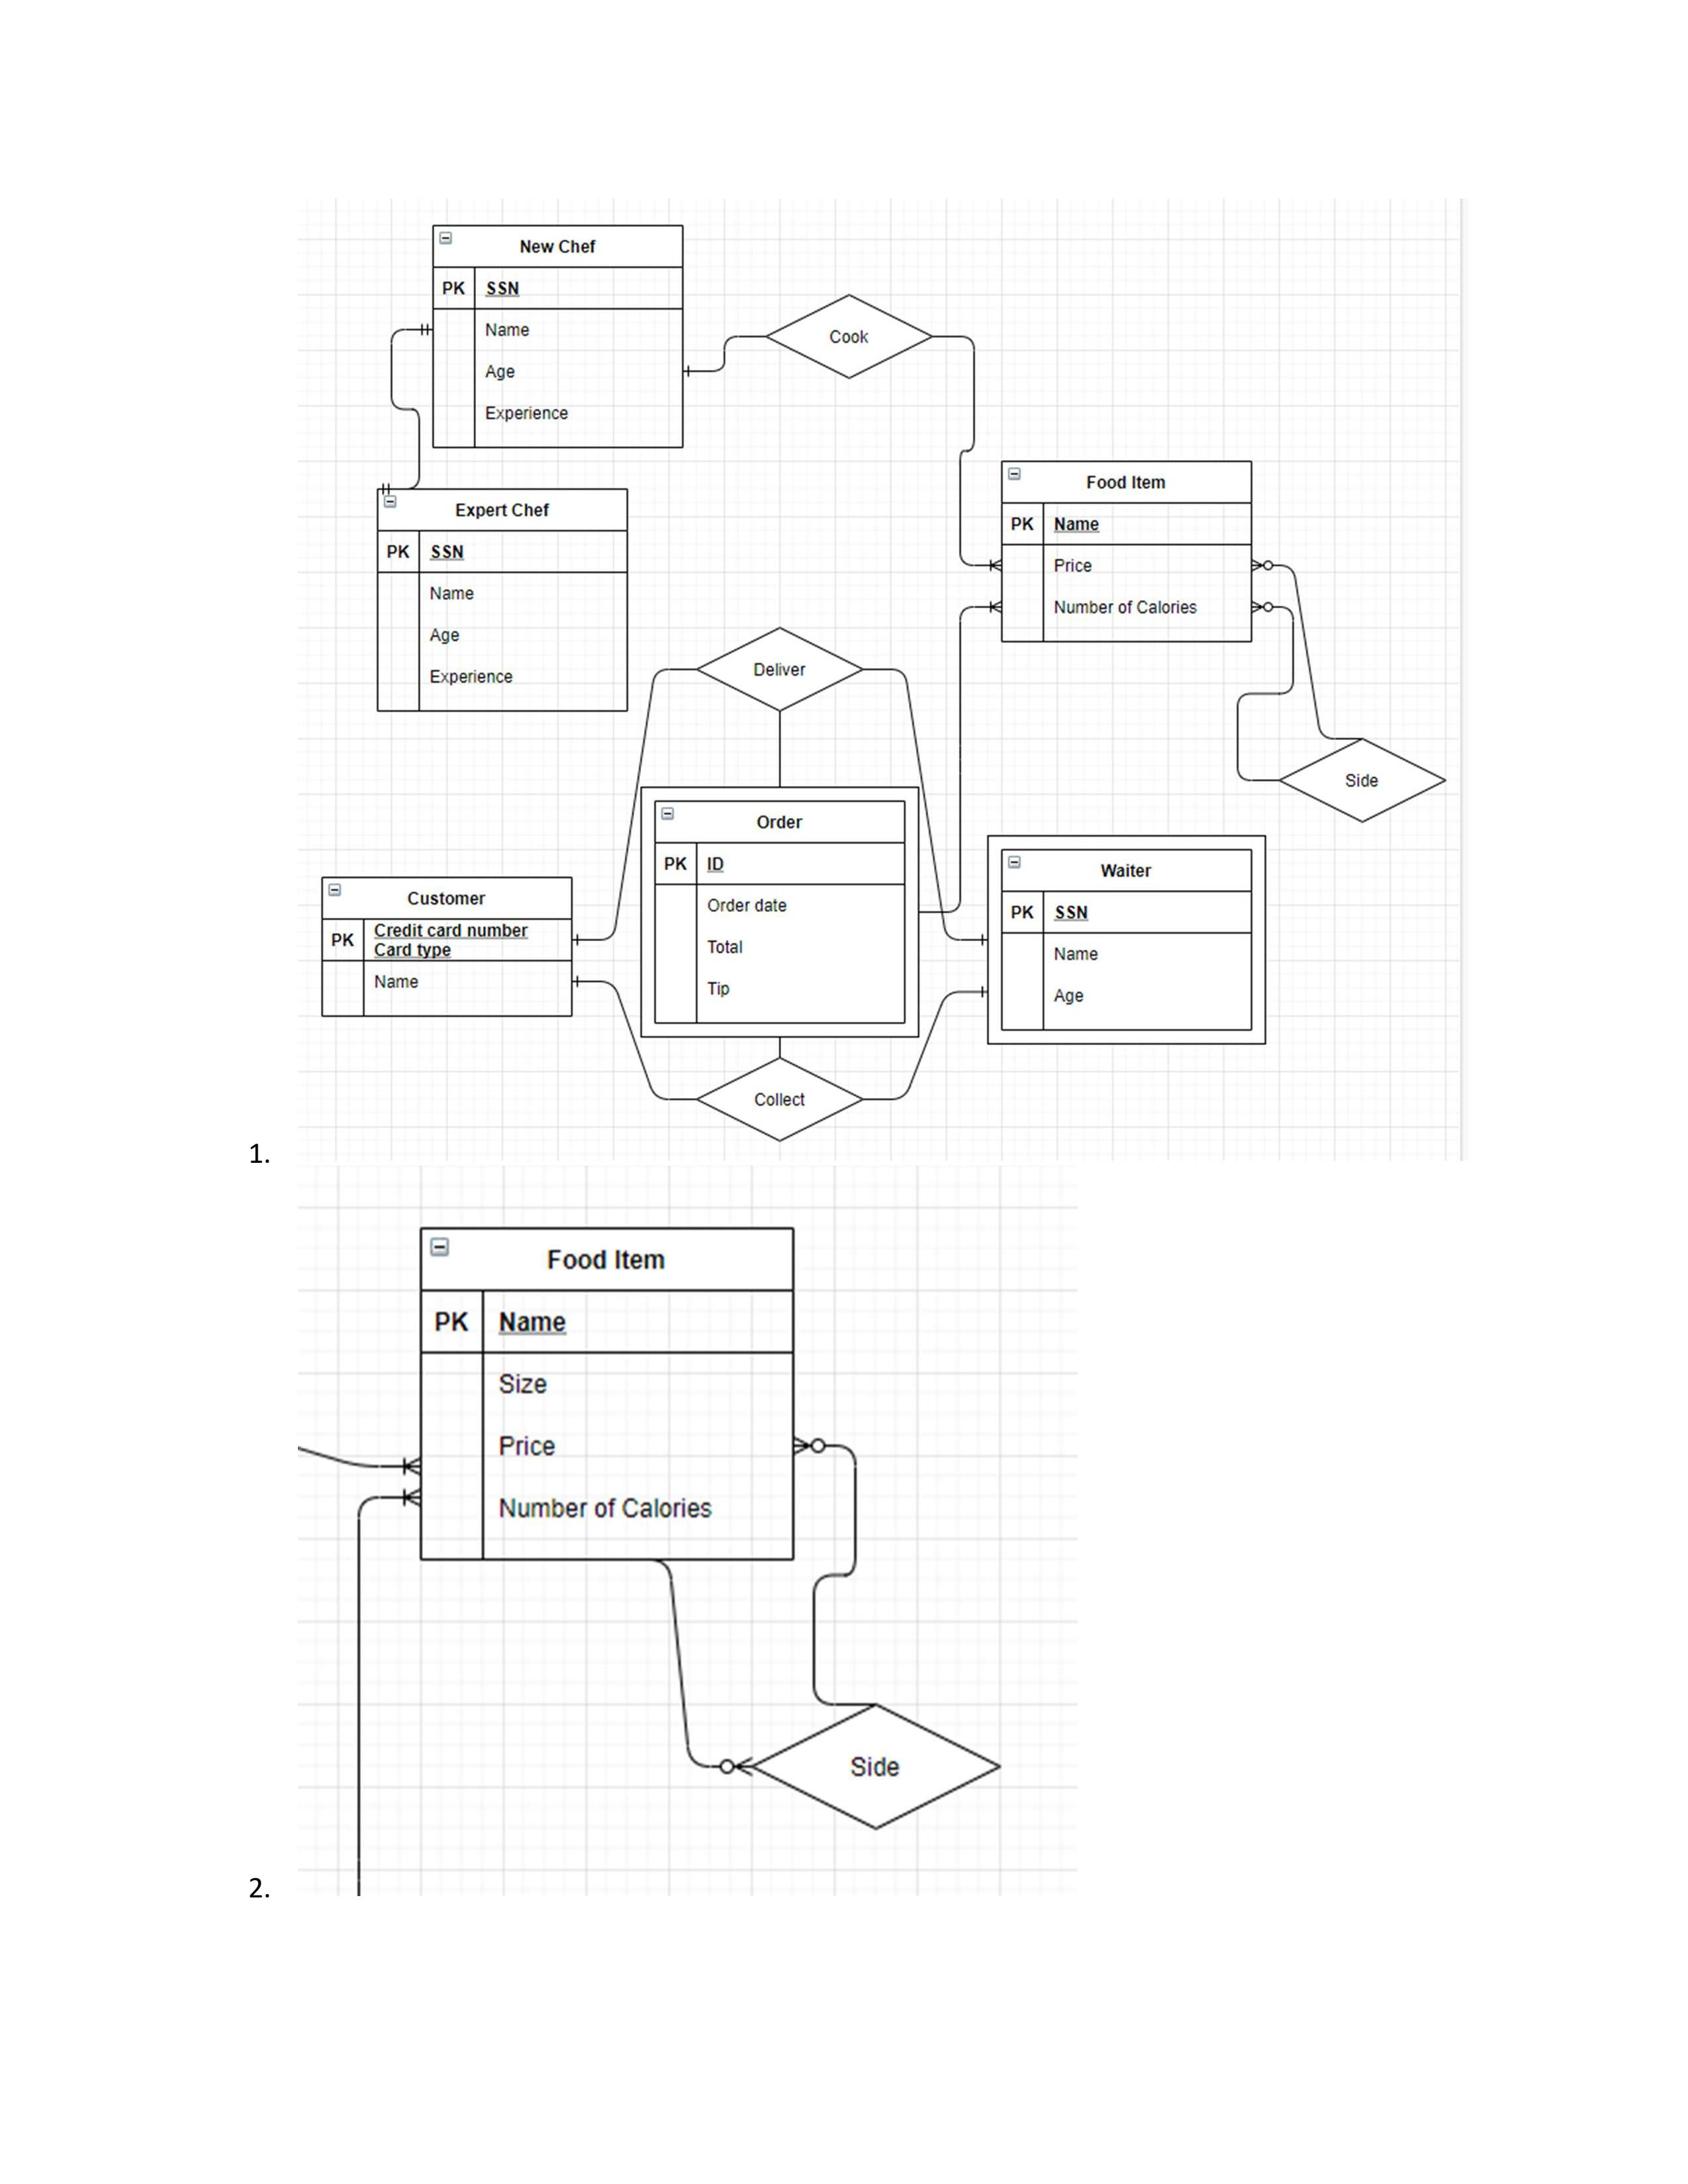Entity: (417, 1225, 796, 1564), (653, 798, 908, 1026), (431, 223, 686, 450), (376, 487, 629, 714), (998, 457, 1254, 645), (998, 847, 1255, 1033), (321, 876, 574, 1019)
Relationship: (750, 1704, 1004, 1831), (1278, 739, 1447, 824), (697, 626, 862, 713), (766, 294, 933, 379), (697, 1057, 862, 1142)
